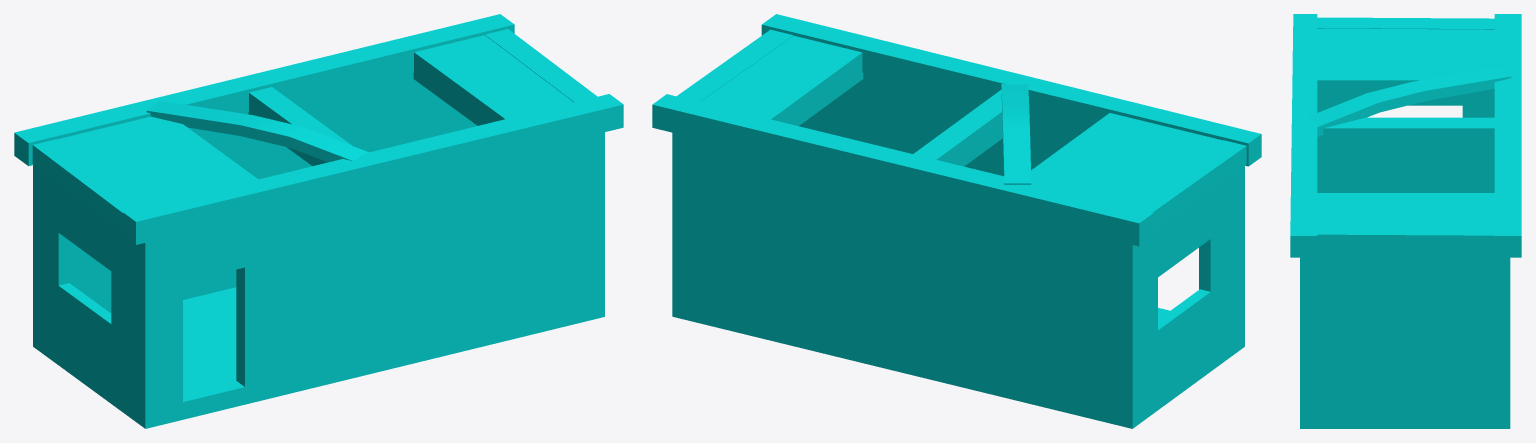
The model's file is SM_Bld_Building_13_Collision.fbx.
3 renders of one model, left to right at view 1: azimuth 30°, elevation 25°; view 2: azimuth 150°, elevation 25°; view 3: azimuth 270°, elevation 25°, orthographic. The views are drawn at different scales.
Parts seen in each view (by area): view 1: SM_Bld_Building_13_Collision; view 2: SM_Bld_Building_13_Collision; view 3: SM_Bld_Building_13_Collision.
Part boxes in pixels (x1=…): SM_Bld_Building_13_Collision: x1=14, y1=14, x2=623, y2=428; SM_Bld_Building_13_Collision: x1=652, y1=14, x2=1261, y2=428; SM_Bld_Building_13_Collision: x1=1290, y1=14, x2=1521, y2=428.
Size of the model in its own units: 796 by 348 by 351.
